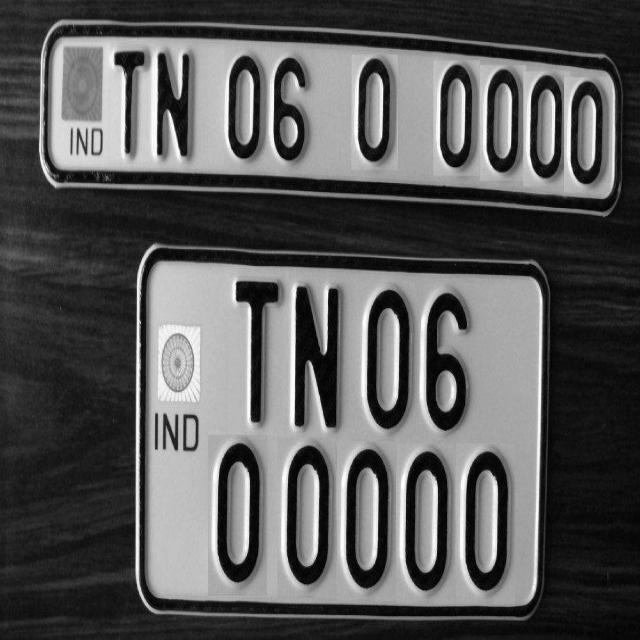license-plate: (143, 253, 544, 612), (39, 28, 620, 220)
